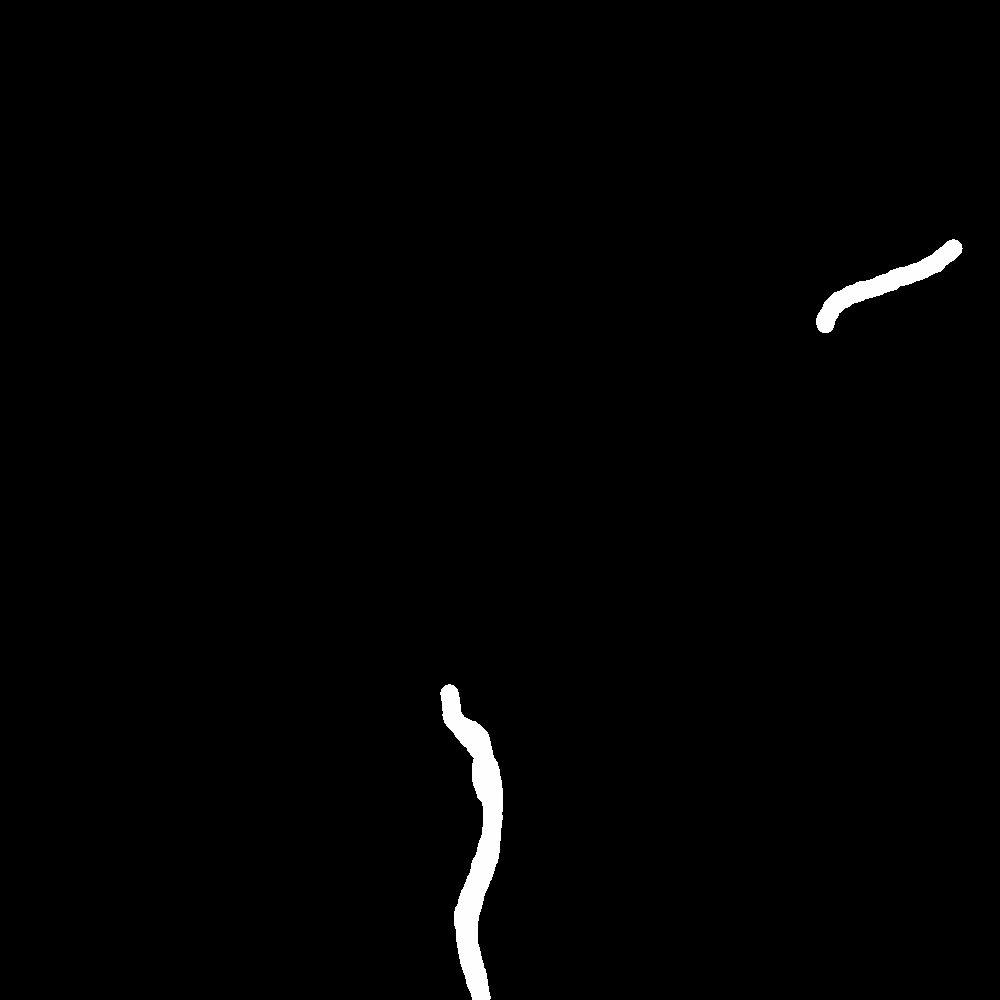illegal: (805, 240, 968, 363), (443, 672, 493, 996)
